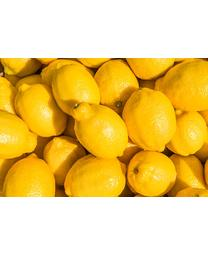lemon: (124, 88, 177, 152), (70, 100, 128, 158), (15, 82, 68, 136), (63, 151, 128, 195), (155, 60, 207, 113), (52, 63, 102, 114), (127, 150, 178, 196), (0, 109, 36, 160)
